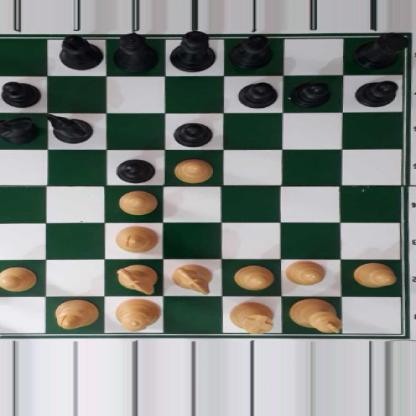black-bishop: (58, 32, 103, 69), (228, 34, 274, 69)
black-king: (172, 29, 217, 73)
black-knight: (45, 113, 92, 142), (0, 115, 37, 144)
black-pawn: (354, 79, 397, 107), (172, 119, 214, 146), (291, 79, 331, 106), (0, 79, 38, 107), (116, 158, 156, 183), (238, 82, 276, 108)
black-queen: (111, 32, 160, 71)
black-rook: (352, 33, 405, 69)
white-bishop: (53, 298, 97, 330), (115, 224, 158, 252)
white-king: (290, 298, 340, 334)
white-knight: (116, 265, 158, 294), (171, 264, 213, 293)
white-pawn: (286, 259, 326, 286), (352, 262, 396, 286), (118, 188, 157, 214), (172, 158, 214, 182), (234, 265, 274, 289), (0, 266, 37, 291)
white-queen: (115, 296, 158, 334)
white-rook: (229, 302, 275, 333)
